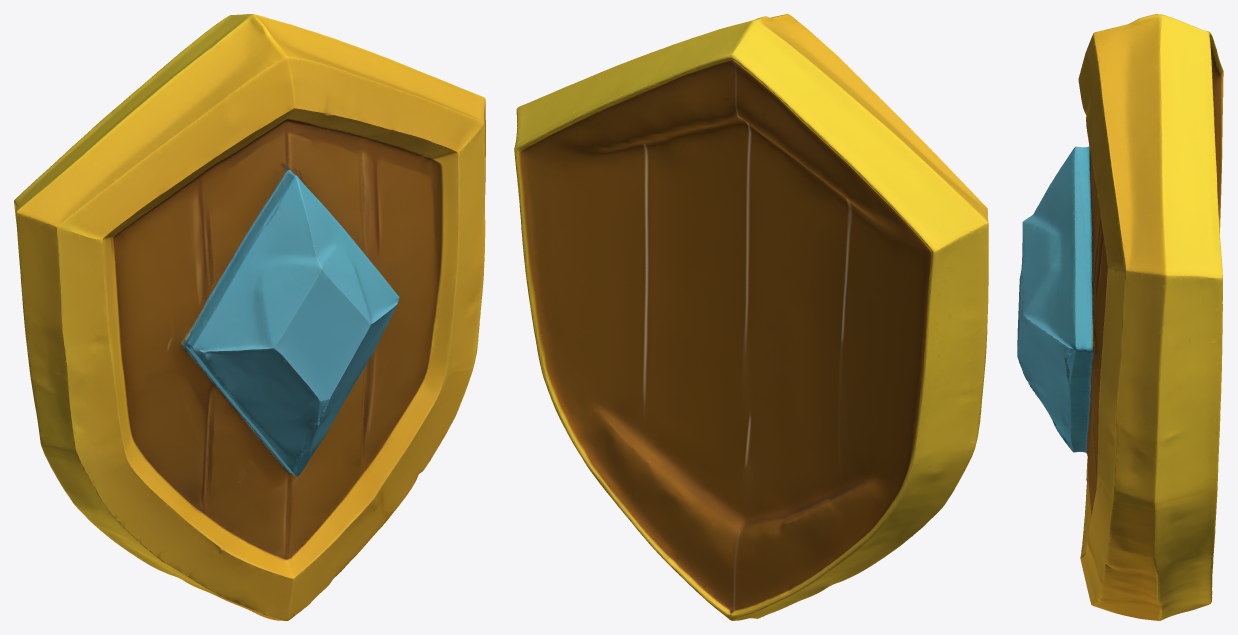
The model's file is base_basic_pbr.fbx.
3 views of the same model, side by side, from view 1: azimuth 30°, elevation 25°; view 2: azimuth 150°, elevation 25°; view 3: azimuth 270°, elevation 25° (orthographic).
Parts seen in each view (by area): view 1: model; view 2: model; view 3: model.
Part boxes in pixels (left/top/right/bottom): model: left=14, top=14, right=485, bottom=620; model: left=514, top=14, right=988, bottom=620; model: left=1017, top=14, right=1223, bottom=620.
Bounding box in the file's own units: 156 × 190 × 58.69.
Materials: 1 (1 with a texture image).
